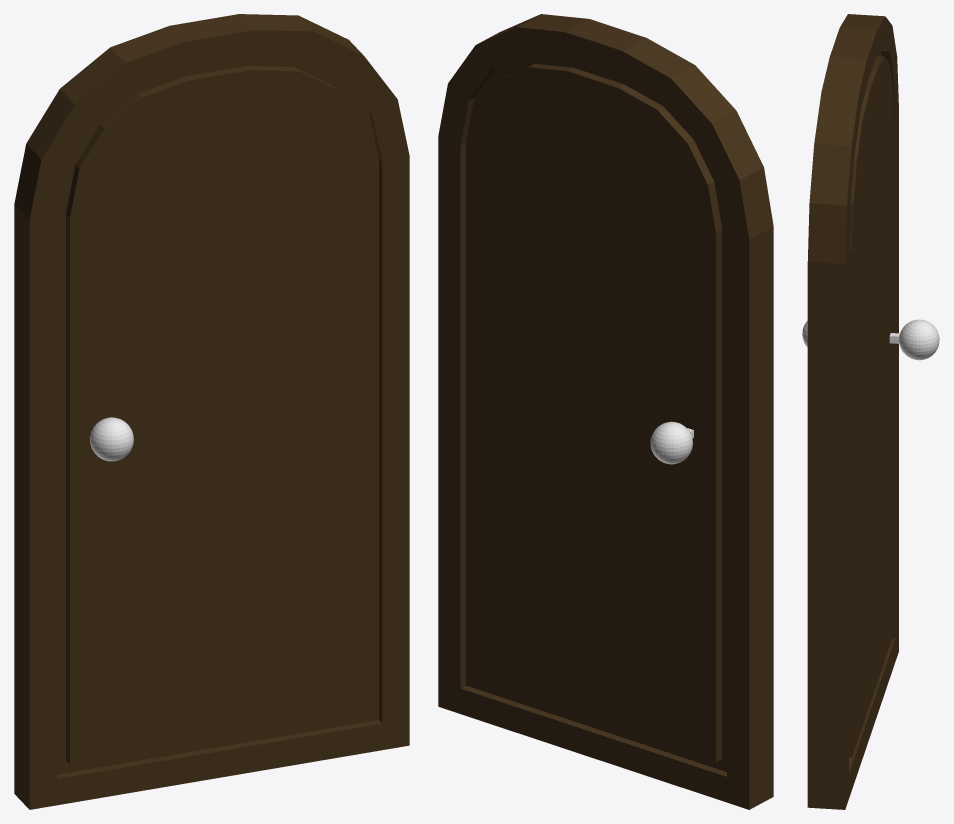
Rendered from AnimDoorCO.fbx.
The picture shows the model from 3 angles, left to right: view 1: azimuth 30°, elevation 25°; view 2: azimuth 150°, elevation 25°; view 3: azimuth 270°, elevation 25°; orthographic projection. The views are drawn at different scales.
Visible parts, largest first — view 1: Door; view 2: Door; view 3: Door.
Part boxes in pixels (x1,y1,x2,y2): Door: [14, 14, 409, 809]; Door: [438, 14, 773, 809]; Door: [802, 14, 939, 809].
Bounding box in the file's own units: 102 × 36.9 × 203.
